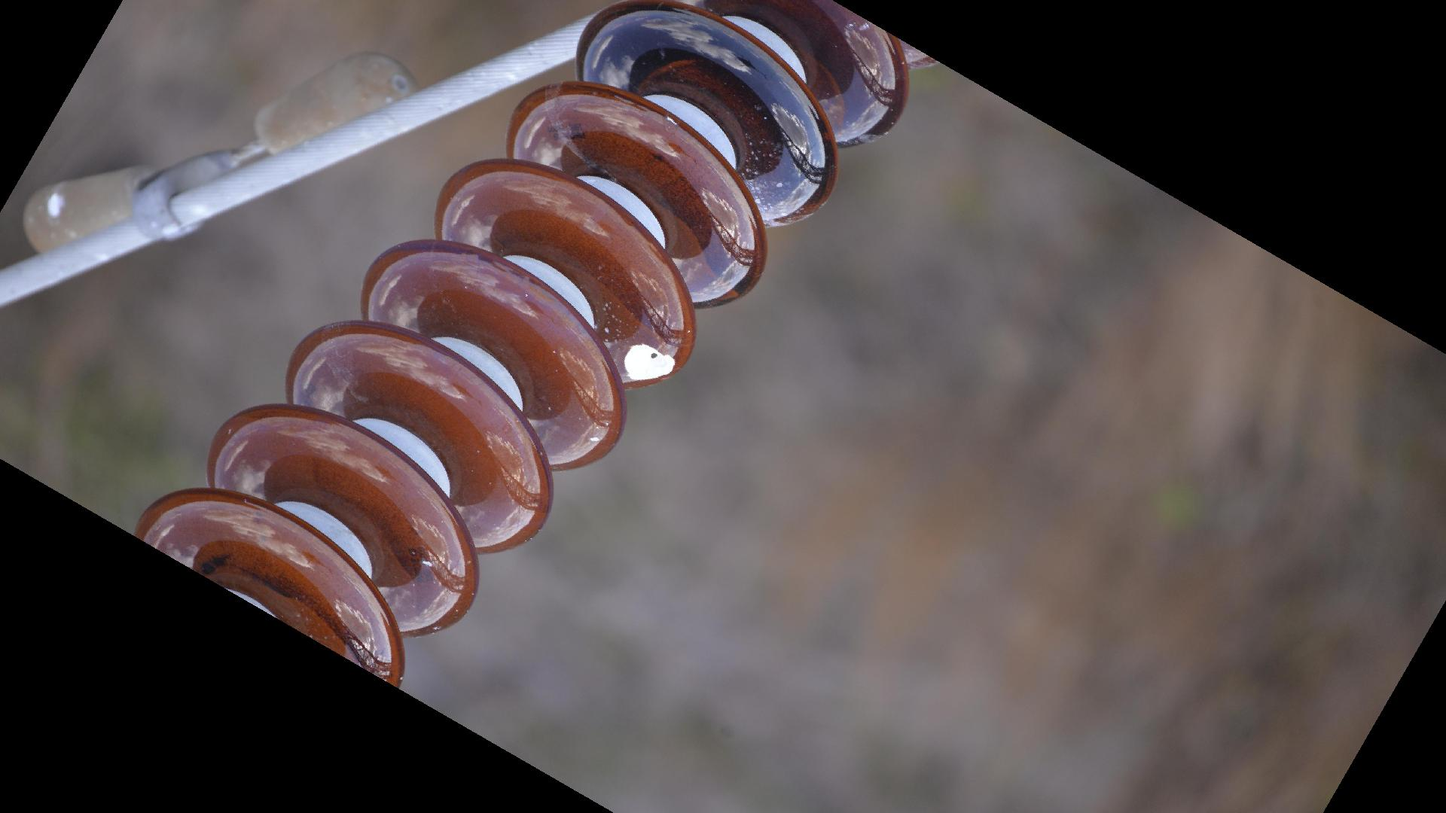insulator: (128, 1, 938, 699)
insulator_breakage: (618, 332, 684, 392)
